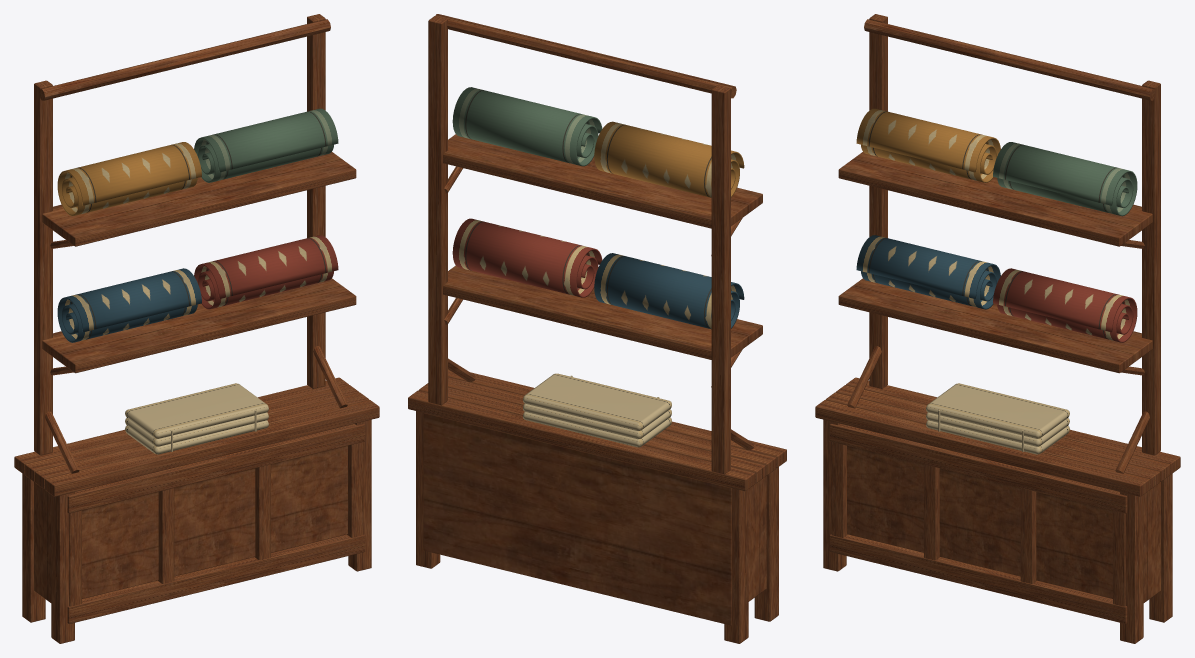
The model's file is rug-roll-chest.glb.
The picture shows the model from 3 angles, left to right: view 1: azimuth 30°, elevation 25°; view 2: azimuth 150°, elevation 25°; view 3: azimuth 330°, elevation 25°; orthographic projection. The views are drawn at different scales.
Parts seen in each view (by area): view 1: rug-roll-chest; view 2: rug-roll-chest; view 3: rug-roll-chest.
Boxes of the visible parts, bbox=[...] form: rug-roll-chest: bbox=[14, 14, 379, 643]; rug-roll-chest: bbox=[408, 14, 786, 643]; rug-roll-chest: bbox=[815, 14, 1180, 643].
Bounding box in the file's own units: 1.48 × 2.3 × 0.32.
1 material, 1 textured.
